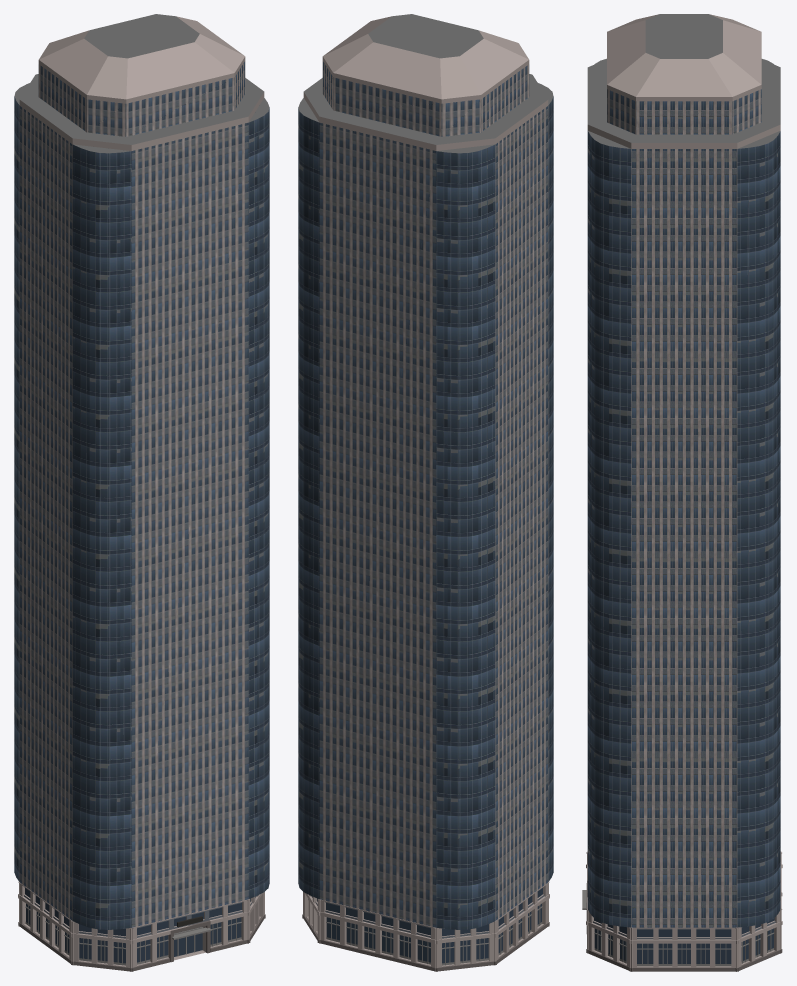
File: us_bank_centre.glb
3 views of the same model, side by side, from view 1: azimuth 30°, elevation 25°; view 2: azimuth 150°, elevation 25°; view 3: azimuth 270°, elevation 25° (orthographic).
Parts seen in each view (by area): view 1: us_bank_centre; view 2: us_bank_centre; view 3: us_bank_centre.
Boxes of the visible parts, bbox=[...] form: us_bank_centre: bbox=[14, 14, 269, 971]; us_bank_centre: bbox=[298, 14, 553, 971]; us_bank_centre: bbox=[582, 14, 782, 971].
Size of the model in its own units: 46.69 by 203 by 41.46.
3 materials, 3 textured.
